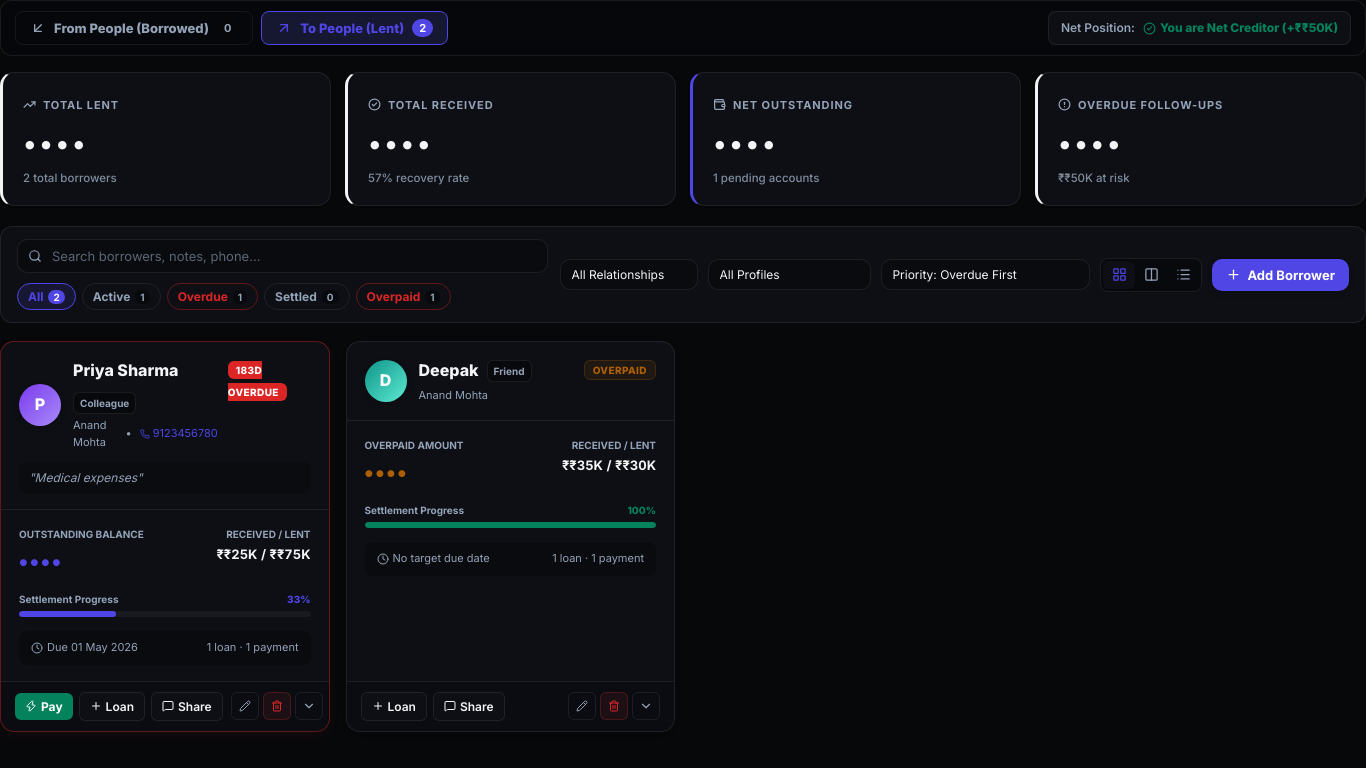
Test: Informal Loans Redesign (From People & To People) › InformalLoanSection (To People / Lent Mode) › filters by status pills (Active, Overdue, Settled, Overpaid)
The image size is (1366, 768).
Click the button "Active 1".
click(121, 297)  # box [82, 283, 161, 310]
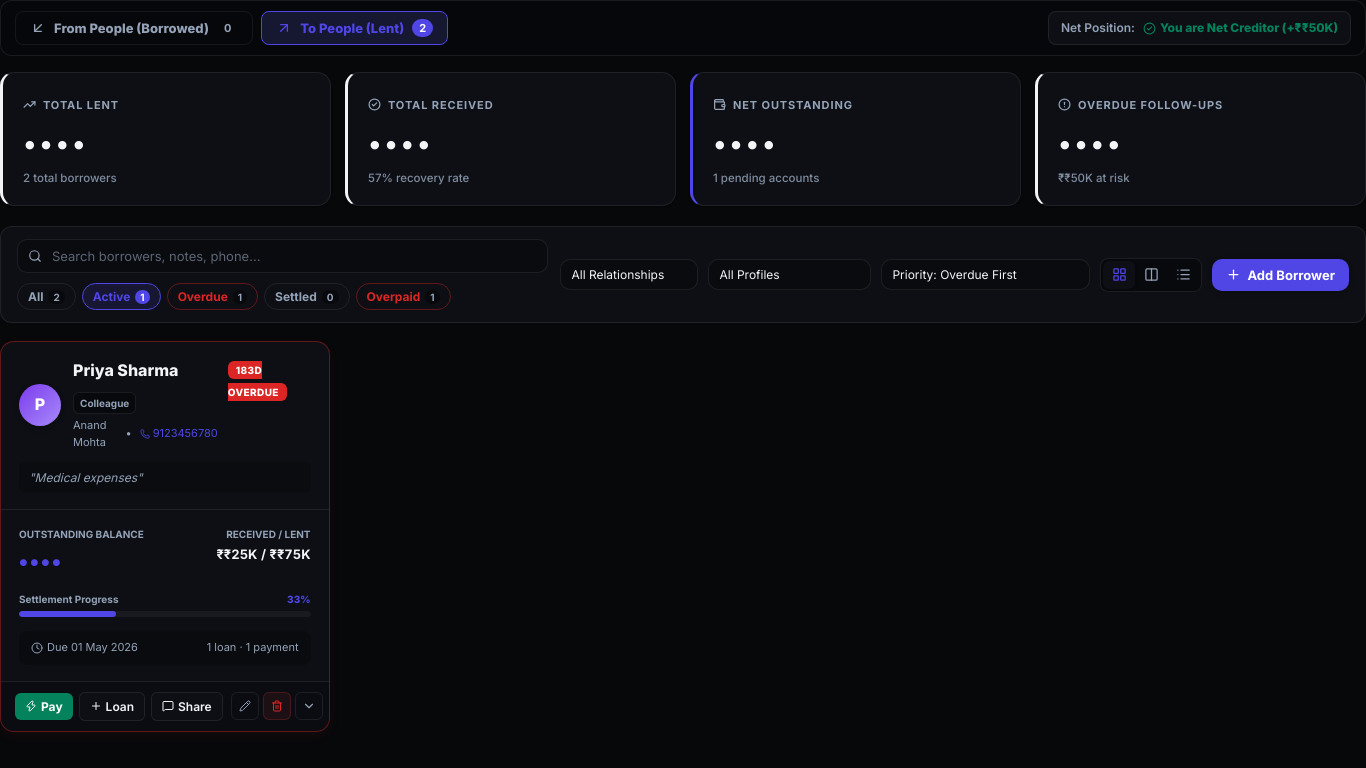
Expected: the text "Priya Sharma" is shown, [73, 358, 178, 384]
Now the text "Deepak" is gone
